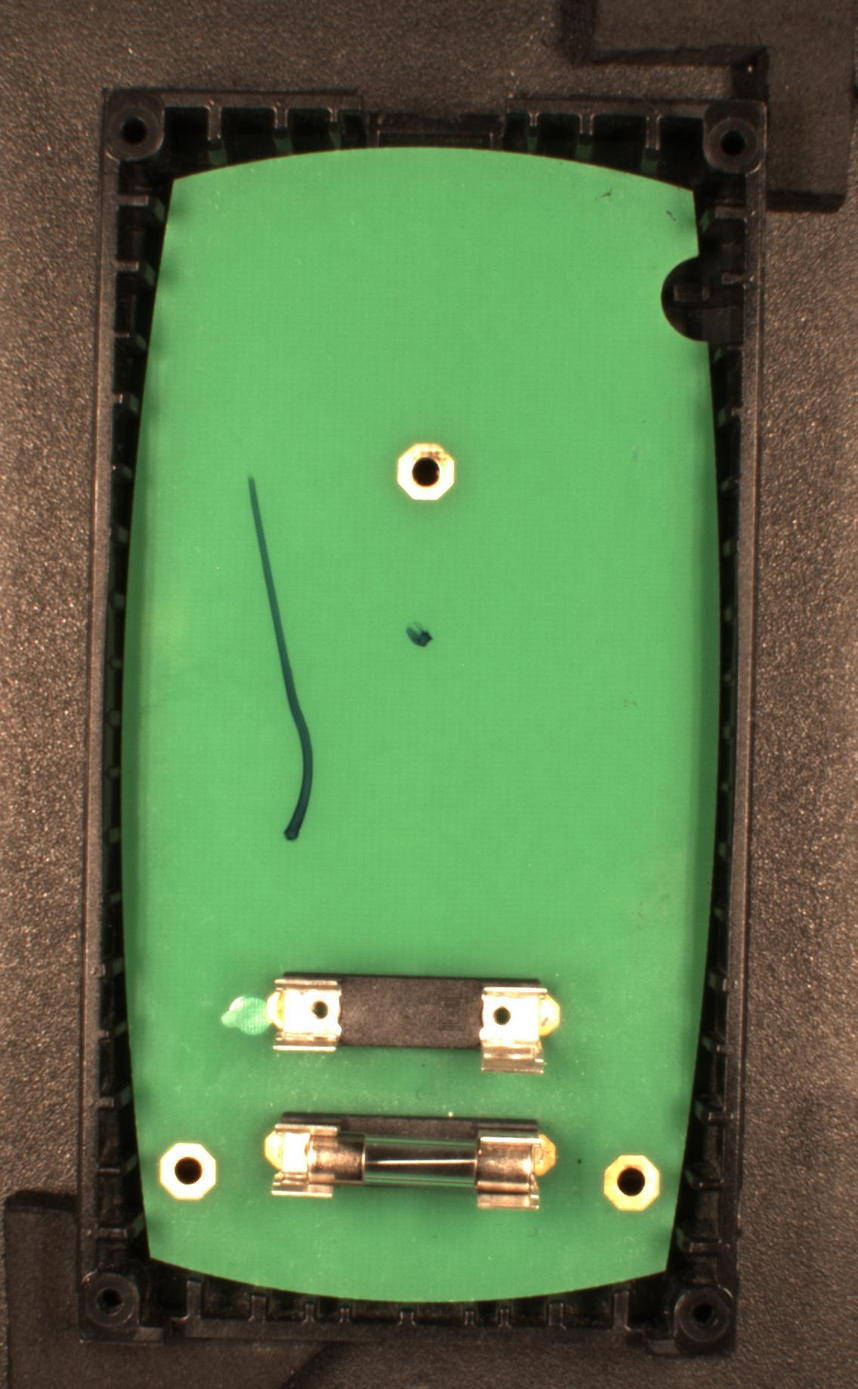Linijsko Ostecene: (245, 473, 316, 844)
Nepostojanje osiguraca: (266, 967, 560, 1075)
Tockasto Ostecenje: (404, 621, 436, 652)
